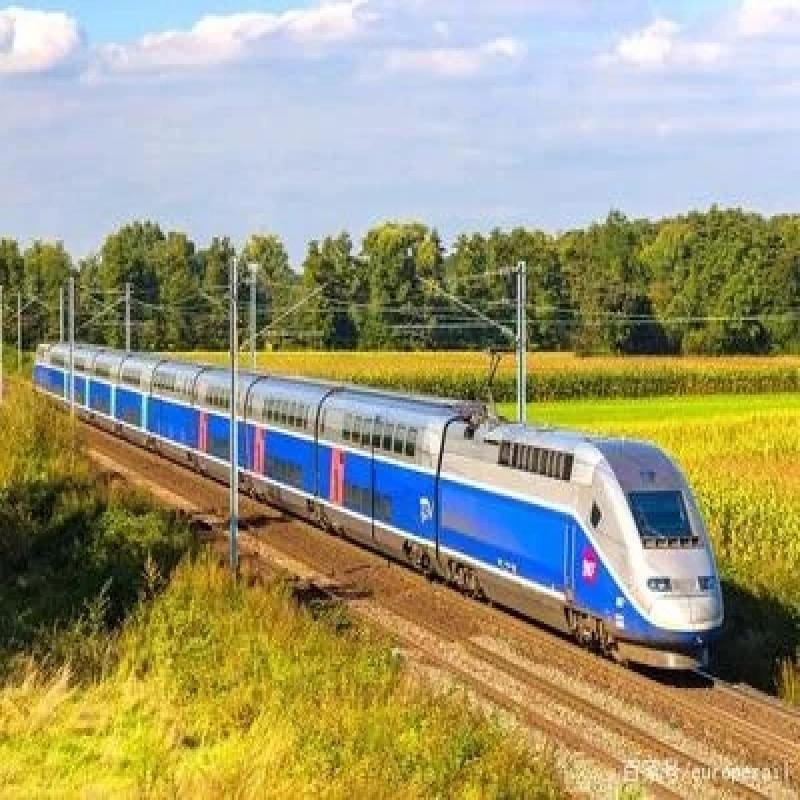train: (31, 332, 721, 689)
